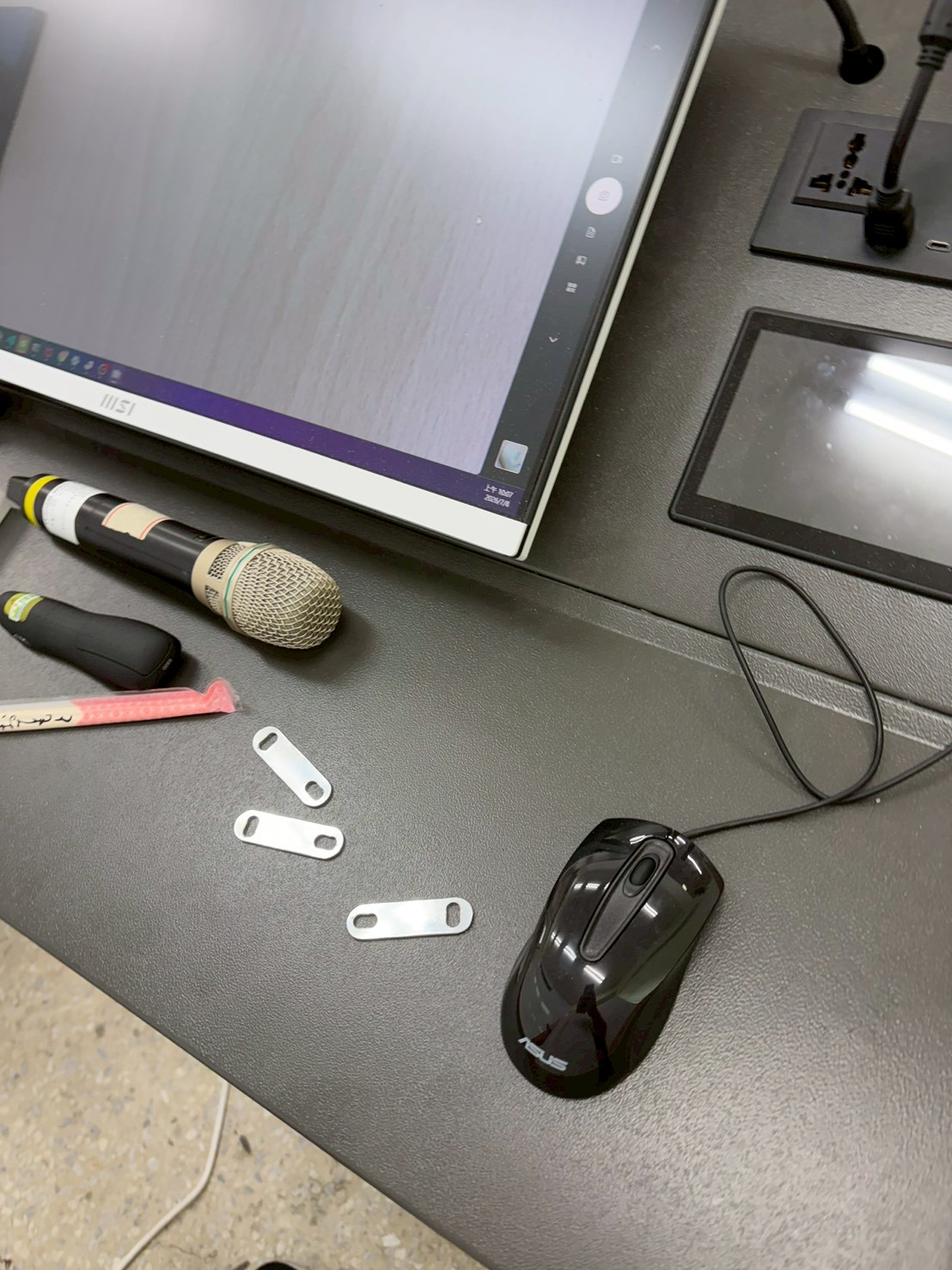Fe: (244, 717, 340, 802), (335, 894, 474, 951), (221, 809, 347, 864)
